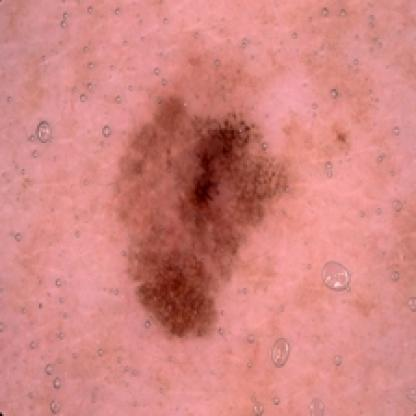Skin_Cancer-Malignant: (110, 93, 286, 342)
